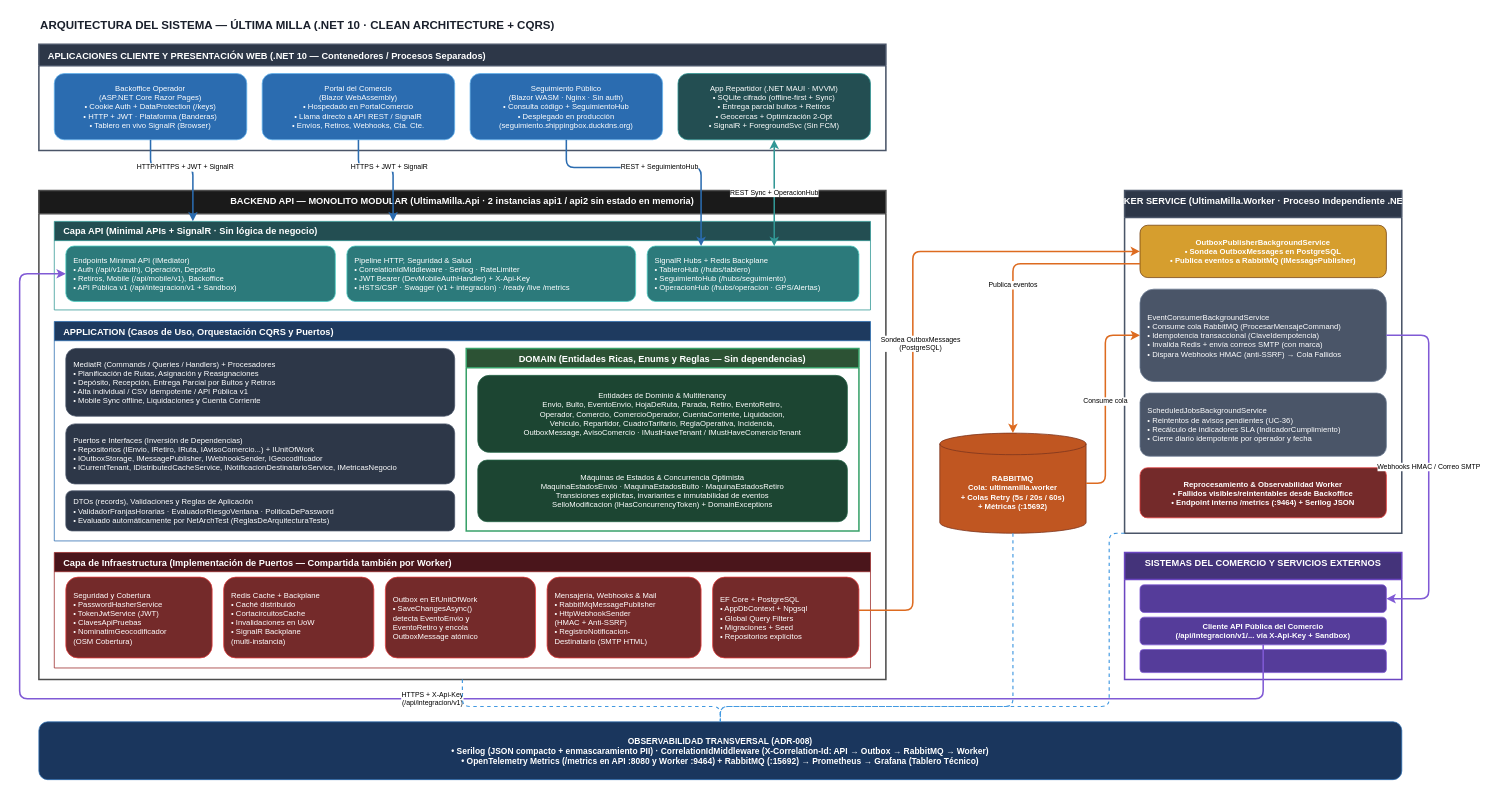
Some shapes in this 1493 by 793 pixel diagram are drawn without their labels. Each missing label, with the centre of its shape:
Receptor de Webhooks del Comercio (HTTP POST firmado HMAC · Anti-SSRF): [1262,598]
SMTP (Notificaciones Email) · OSM Nominatim (Cobertura): [1262,661]
